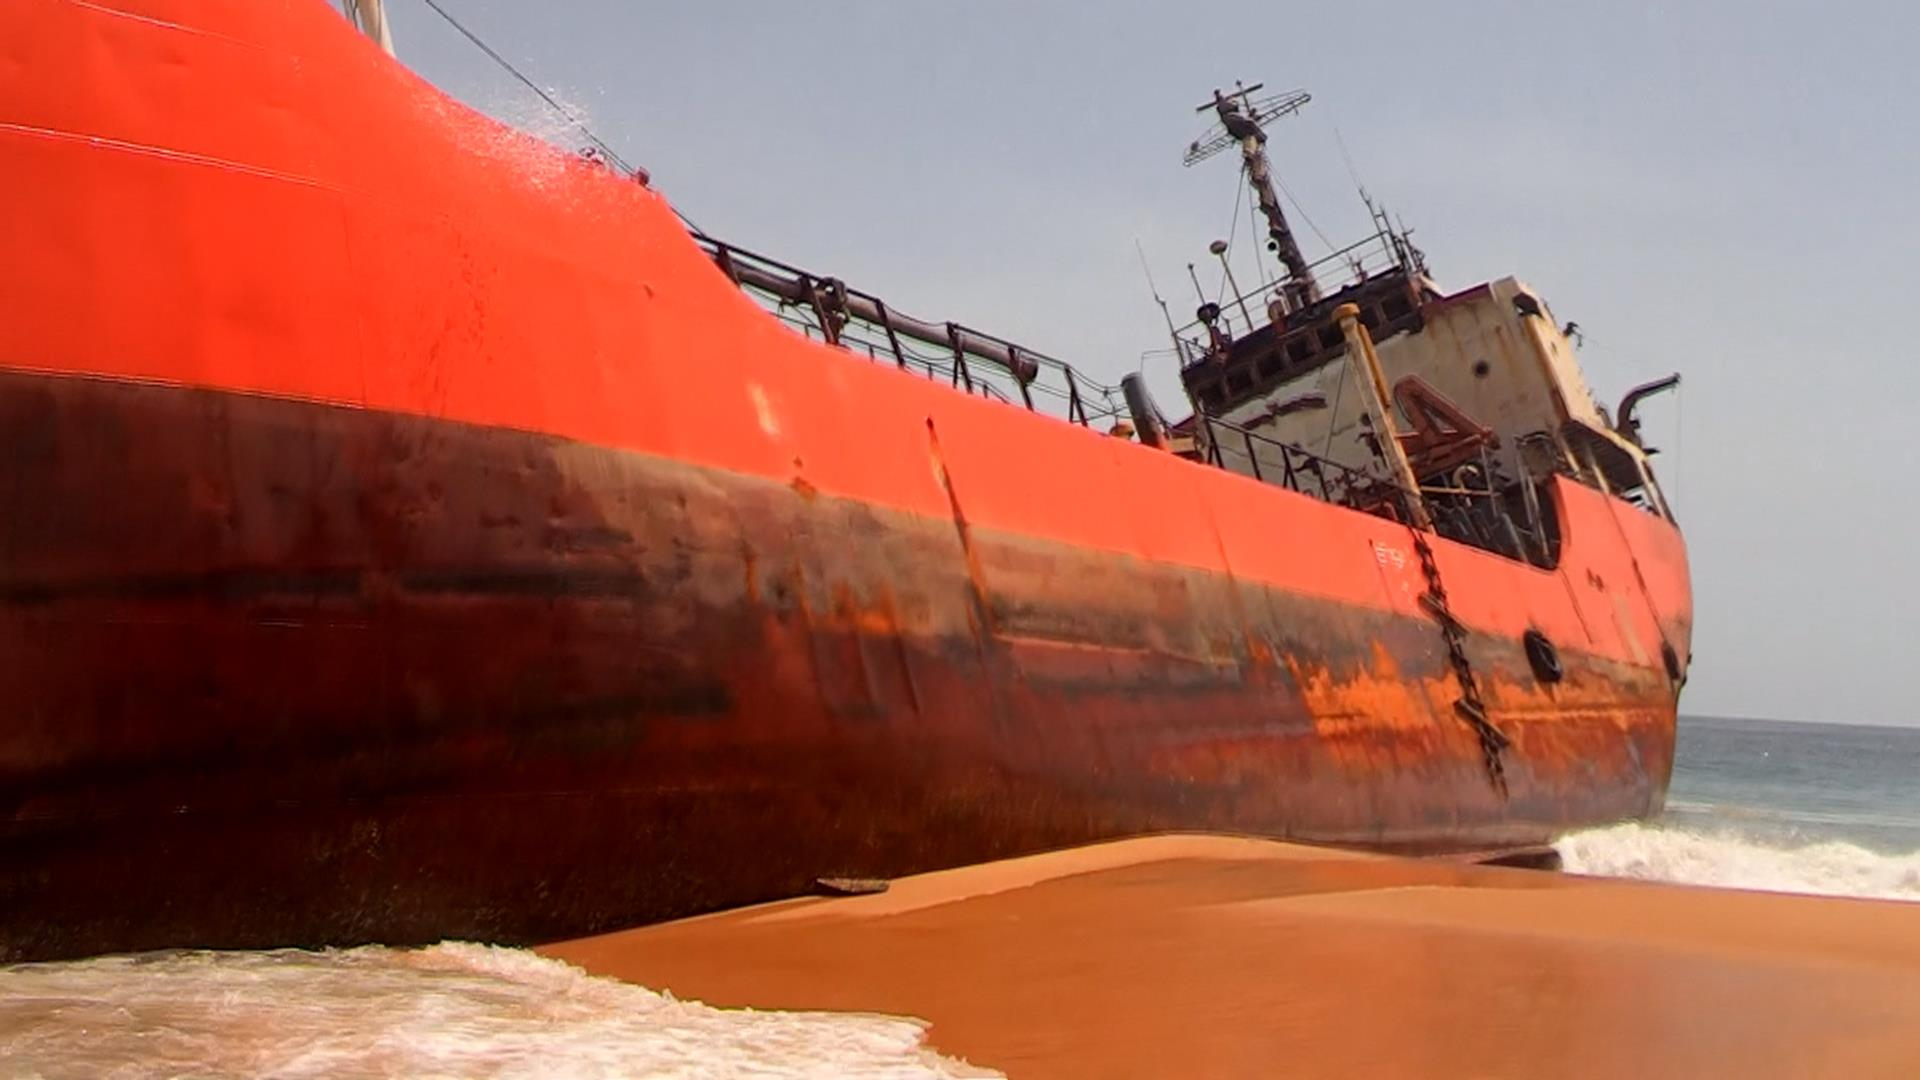rust: (7, 382, 712, 920), (906, 574, 1410, 835)
